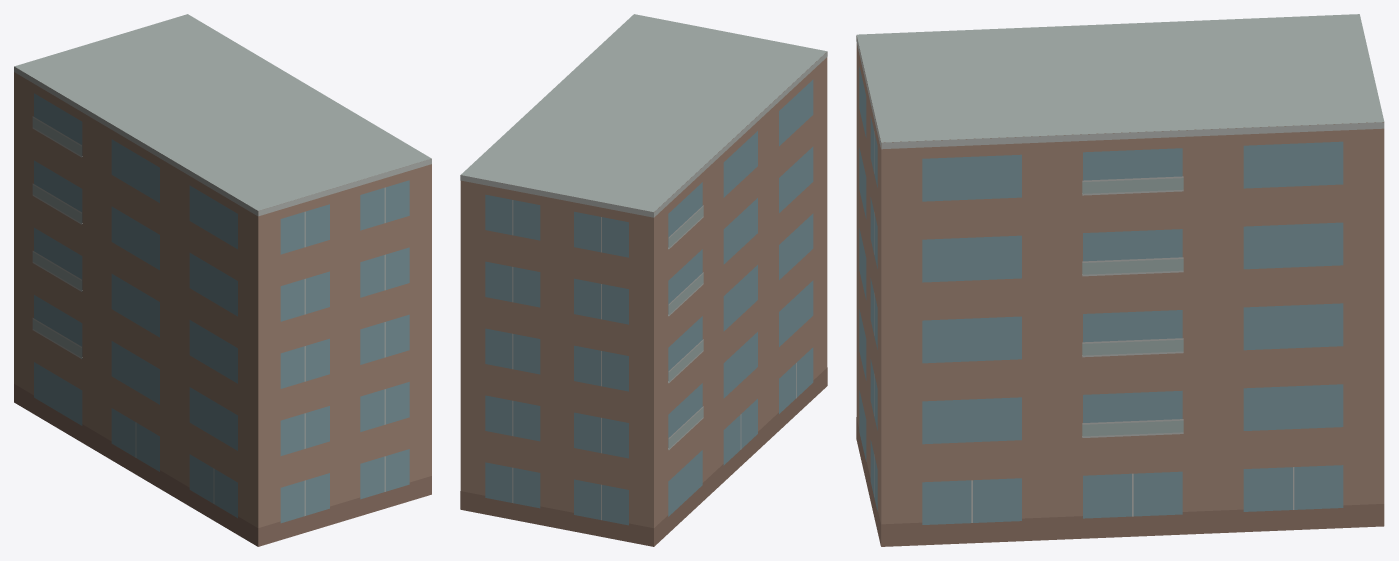
The model's file is survey-upis-32632822.glb.
3 views of the same model, side by side, from view 1: azimuth 30°, elevation 25°; view 2: azimuth 150°, elevation 25°; view 3: azimuth 270°, elevation 25° (orthographic). The views are drawn at different scales.
Parts seen in each view (by area): view 1: survey-upis-32632822.tmp; view 2: survey-upis-32632822.tmp; view 3: survey-upis-32632822.tmp.
Part boxes in pixels (<box>): survey-upis-32632822.tmp: <box>14,14,431,546</box>; survey-upis-32632822.tmp: <box>460,14,827,546</box>; survey-upis-32632822.tmp: <box>856,14,1384,546</box>.
Size of the model in its own units: 10.1 by 14.8 by 17.53.
